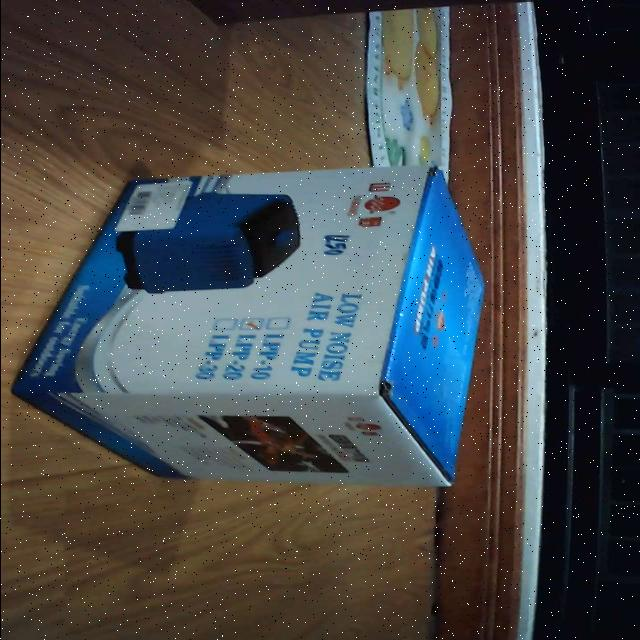YAMANO_LPP_20: (0, 155, 503, 502)
